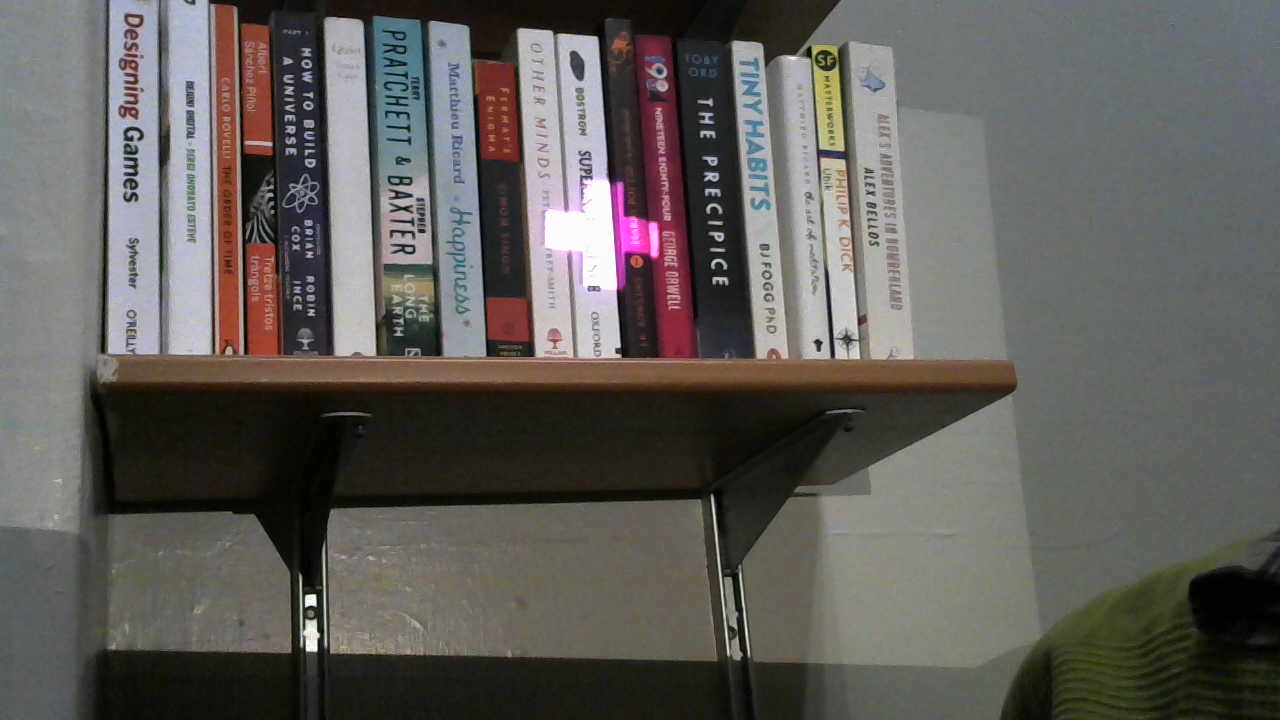calibration_symbol: (544, 178, 658, 292)
